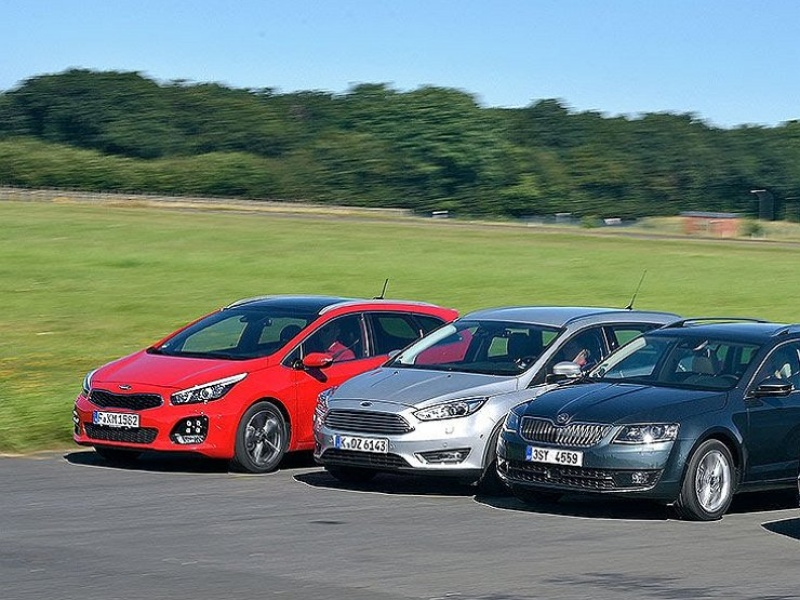car: (74, 297, 476, 473), (312, 306, 686, 477), (493, 317, 800, 520)
plate: (525, 445, 583, 468), (334, 434, 387, 454), (92, 410, 139, 432)
